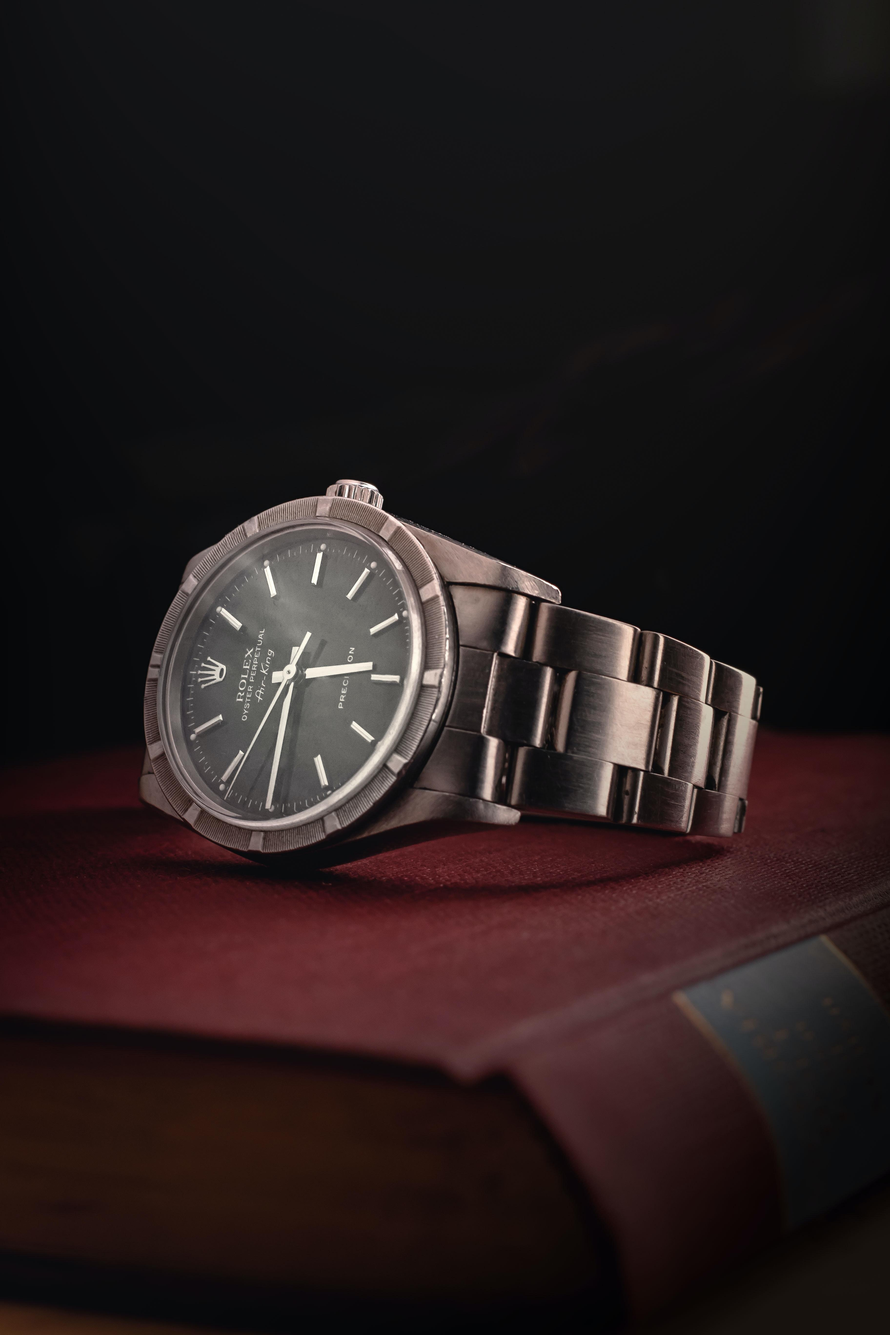watch: (108, 471, 784, 886)
